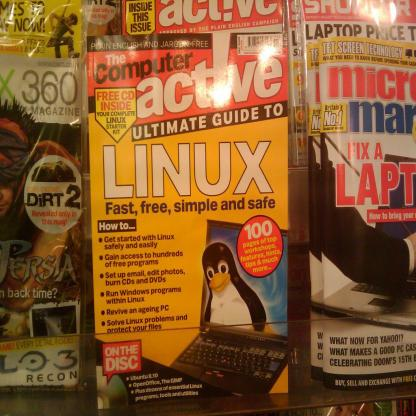board: (168, 218, 288, 396), (312, 152, 414, 332)
